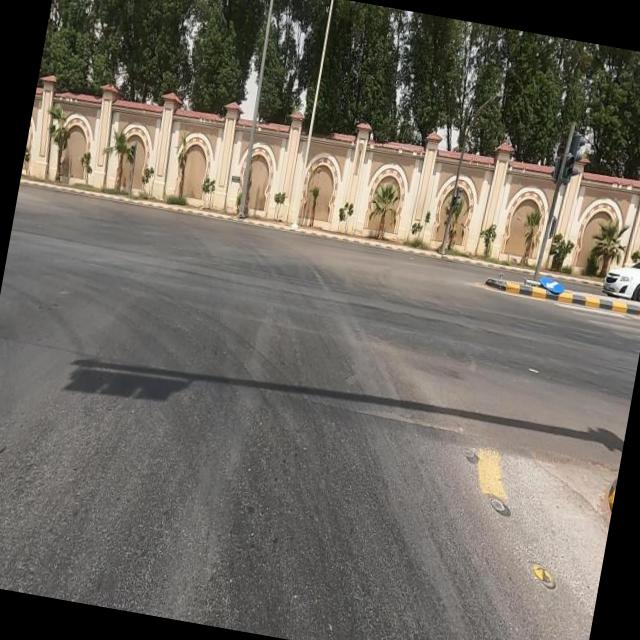debris: (492, 226, 600, 336)
